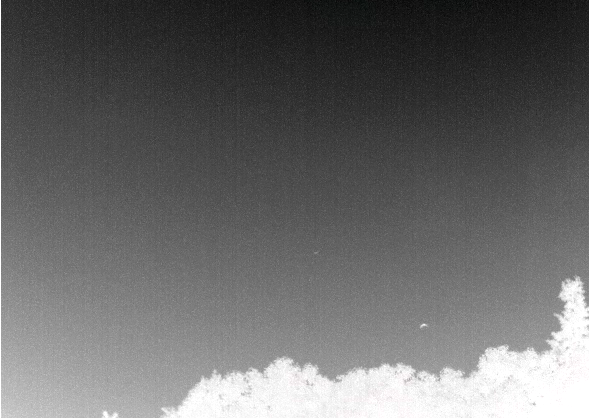dim target: (419, 322, 428, 329), (312, 249, 322, 255)
